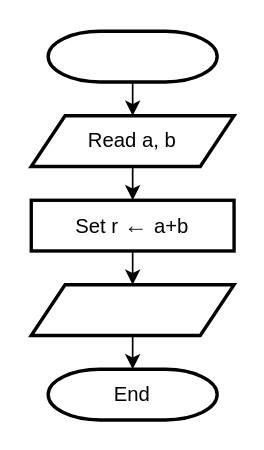
This 264x450 diagram has some shape labels left out. The centre of each missing label's shape, as x and y in pixels:
Print r: (132,309)
Start: (132,56)
